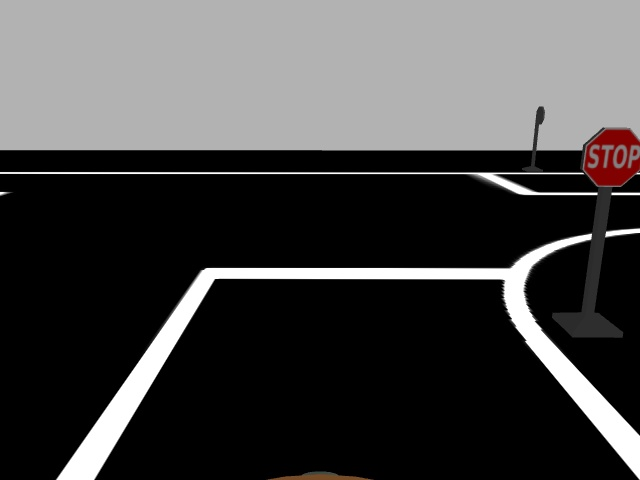stop: (573, 124, 640, 191)
